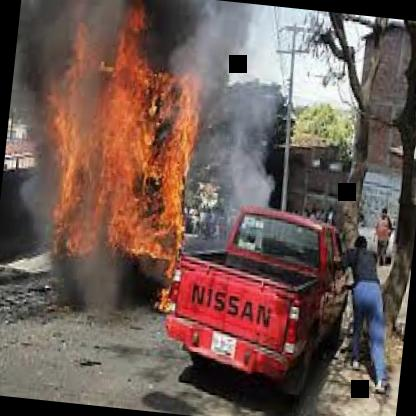fire: (9, 0, 216, 309)
